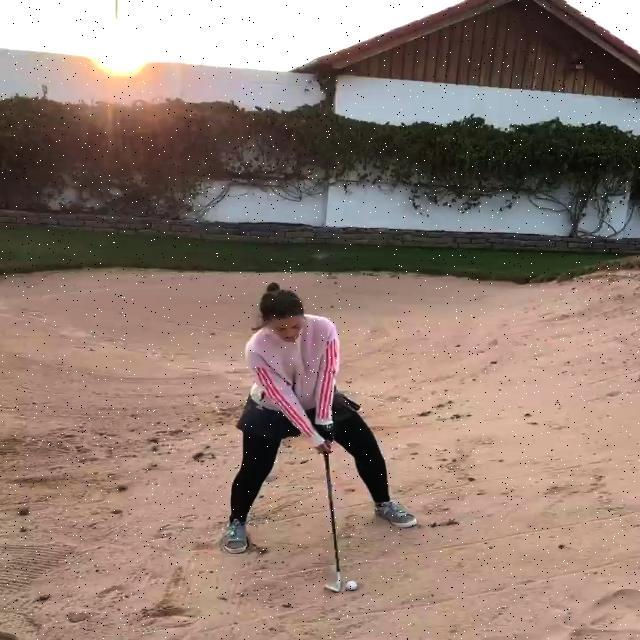golf ball: (345, 581, 357, 590)
golf club-handle: (324, 450, 343, 593)
golf club-head: (324, 583, 343, 593)
